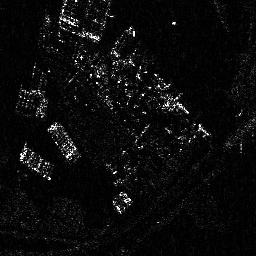ship: (19, 146, 51, 180)
